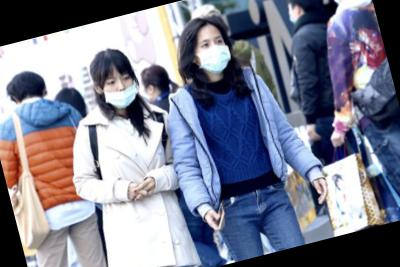mask_weared_incorrect: (97, 69, 142, 114)
with_mask: (192, 30, 237, 80)
